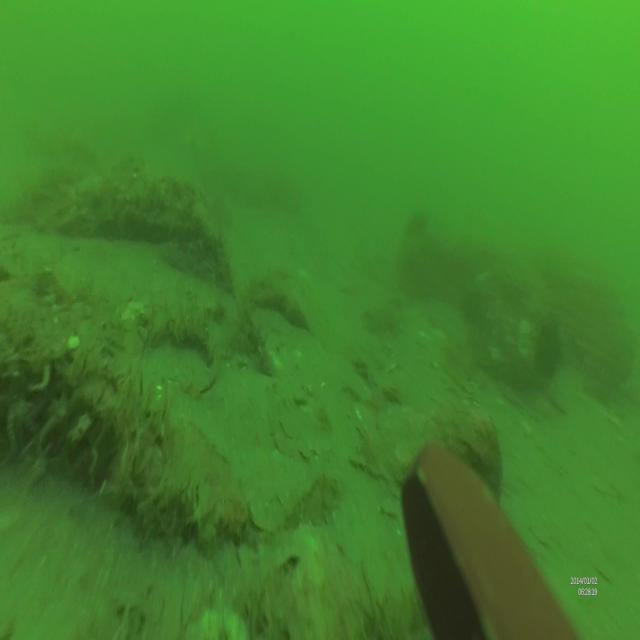holothurian: (138, 300, 216, 373), (250, 266, 308, 330), (228, 311, 274, 382)
